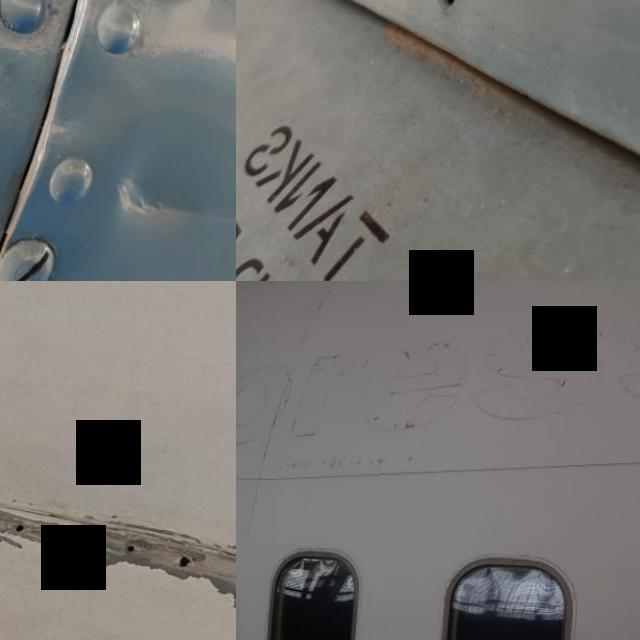Dent: (104, 156, 220, 252)
Missing_Fastener: (409, 0, 489, 39), (70, 532, 86, 546), (182, 552, 194, 568), (17, 520, 30, 534), (127, 543, 140, 552)
